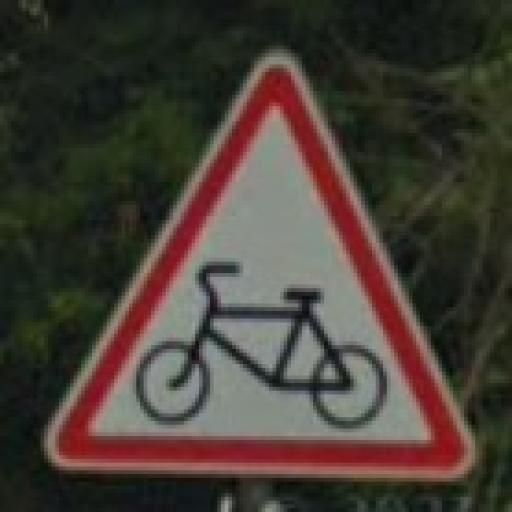traffic_sign: (41, 47, 480, 487)
